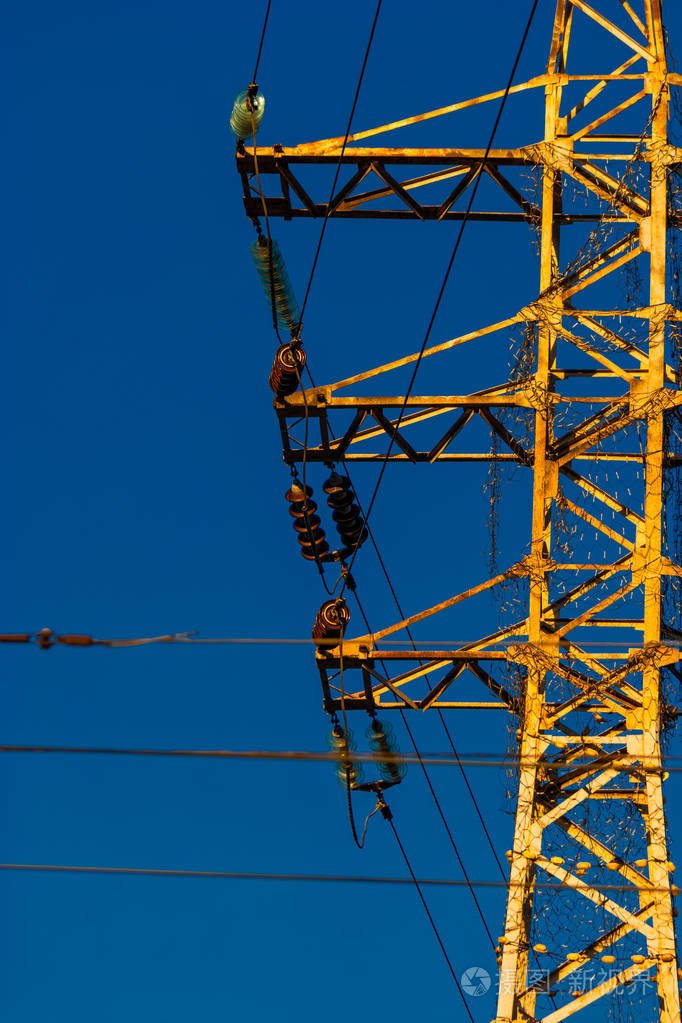insulator: (249, 237, 301, 334), (326, 474, 367, 549), (287, 483, 325, 563), (325, 724, 366, 791), (368, 721, 405, 785), (306, 598, 351, 649), (227, 88, 266, 142), (265, 345, 304, 396)
